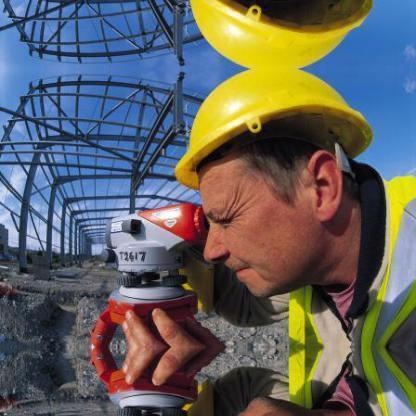helmet: (161, 68, 384, 192)
